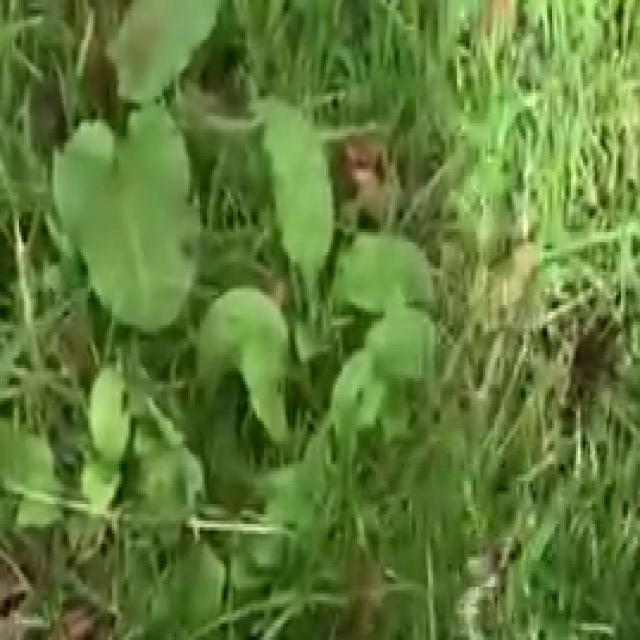organic waste: (86, 126, 473, 574), (0, 0, 264, 305)
